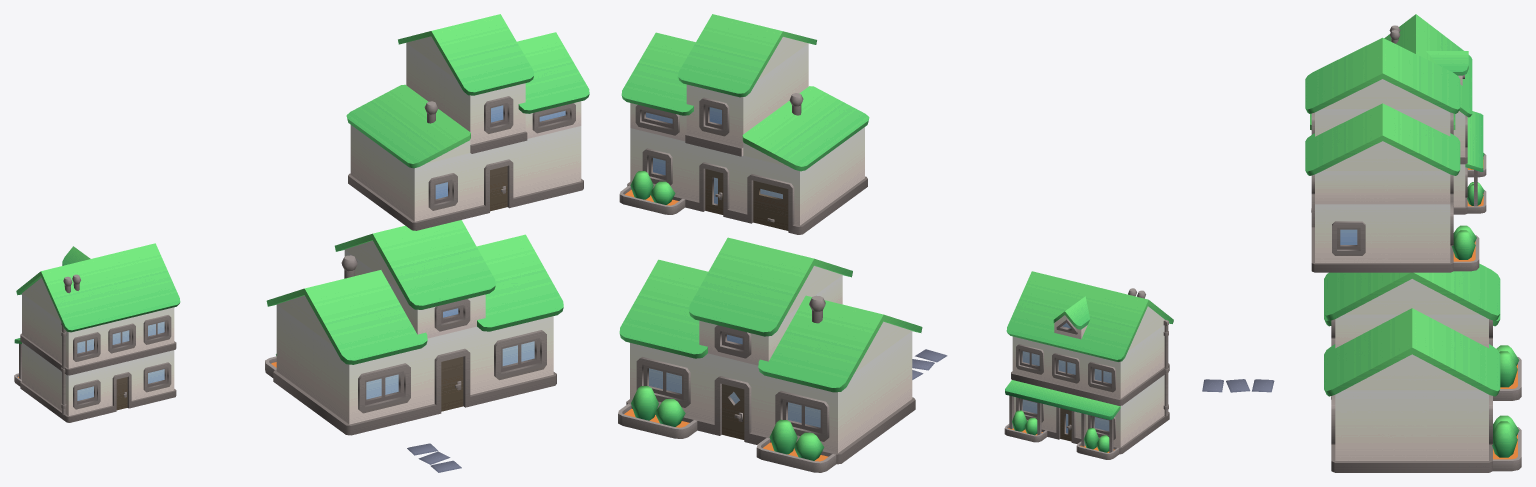
File: wf02-residential-gable-shell.glb
The picture shows the model from 3 angles, left to right: view 1: azimuth 30°, elevation 25°; view 2: azimuth 150°, elevation 25°; view 3: azimuth 270°, elevation 25°; orthographic projection. The views are drawn at different scales.
Parts seen in each view (by area): view 1: building-type-a, building-type-c, building-type-e, path-stones-messy; view 2: building-type-a, building-type-c, building-type-e; view 3: building-type-a, building-type-c, building-type-e, path-stones-messy.
Part boxes in pixels (left/top/right/bottom): building-type-a: left=265, top=220, right=563, bottom=435; building-type-c: left=346, top=14, right=589, bottom=230; building-type-e: left=14, top=243, right=180, bottom=422; path-stones-messy: left=407, top=443, right=461, bottom=472; building-type-a: left=618, top=237, right=922, bottom=472; building-type-c: left=619, top=14, right=869, bottom=234; building-type-e: left=1004, top=271, right=1173, bottom=459; building-type-a: left=1324, top=263, right=1521, bottom=472; building-type-c: left=1305, top=37, right=1479, bottom=272; building-type-e: left=1384, top=14, right=1486, bottom=214; path-stones-messy: left=1202, top=379, right=1274, bottom=392.
Bounding box in the file's own units: 3.96 × 2.74 × 2.08.
Materials: 4 (4 with a texture image).
